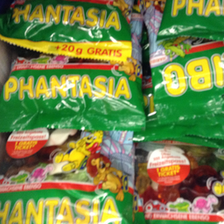candy: (2, 2, 141, 133), (3, 127, 135, 224), (144, 1, 224, 117), (129, 126, 223, 223)
